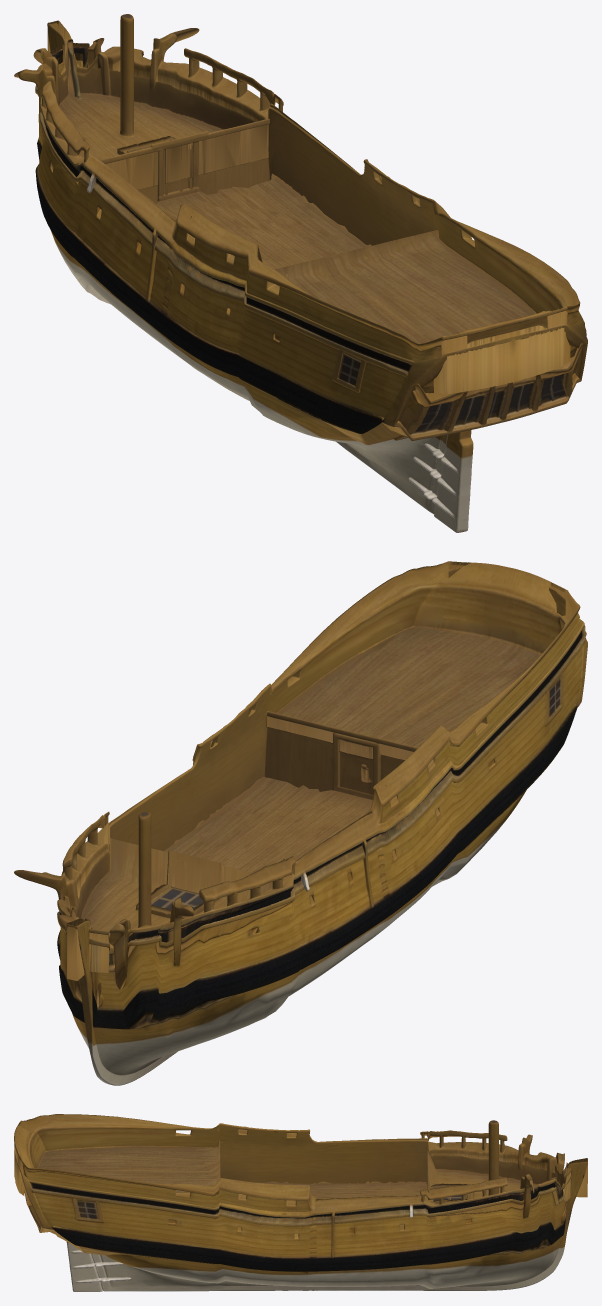
File: hull_fitted.glb
3 renders of one model, top to bottom at view 1: azimuth 30°, elevation 25°; view 2: azimuth 150°, elevation 25°; view 3: azimuth 270°, elevation 25°, orthographic. The views are drawn at different scales.
Bounding box in the file's own units: 8.69 × 10.27 × 31.6.
Materials: 1 (1 with a texture image).
